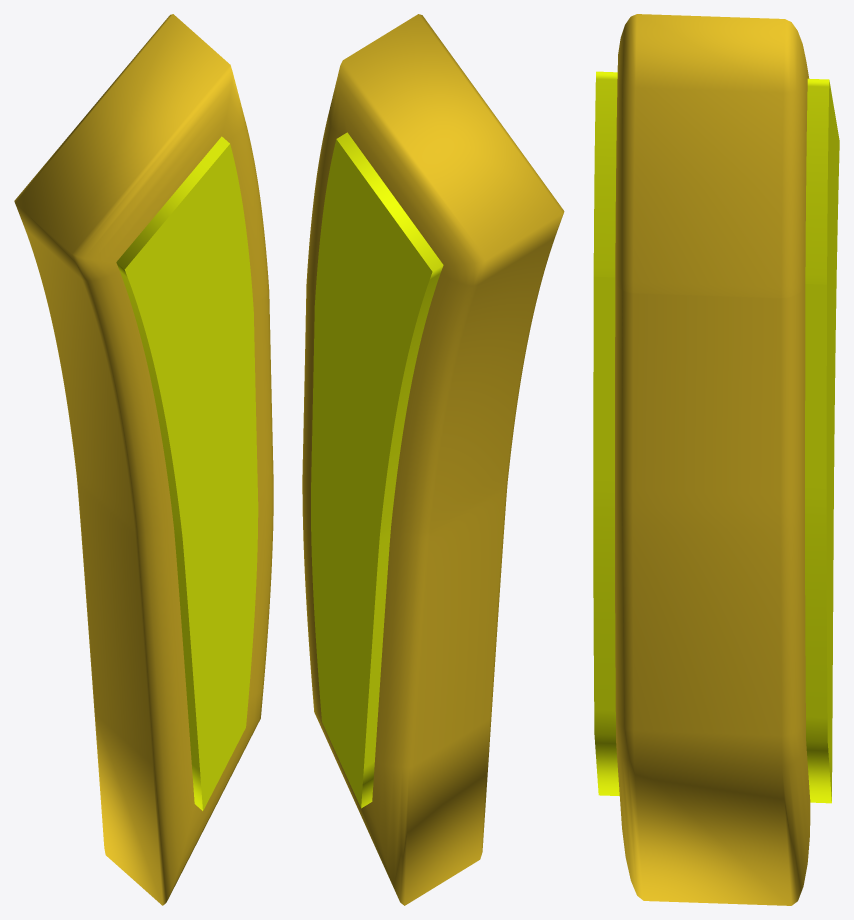
3 renders of one model, left to right at view 1: azimuth 30°, elevation 25°; view 2: azimuth 150°, elevation 25°; view 3: azimuth 270°, elevation 25°, orthographic. The views are drawn at different scales.
Visible parts, largest first — view 1: text 2, Text; view 2: text 2, Text; view 3: text 2, Text.
Part boxes in pixels (left/top/right/bottom): text 2: left=14, top=14, right=273, bottom=905; Text: left=116, top=136, right=258, bottom=810; text 2: left=302, top=14, right=564, bottom=905; Text: left=311, top=132, right=443, bottom=808; text 2: left=615, top=14, right=810, bottom=905; Text: left=593, top=71, right=839, bottom=803.
Size of the model in its own units: 13.44 by 52.89 by 12.81.
